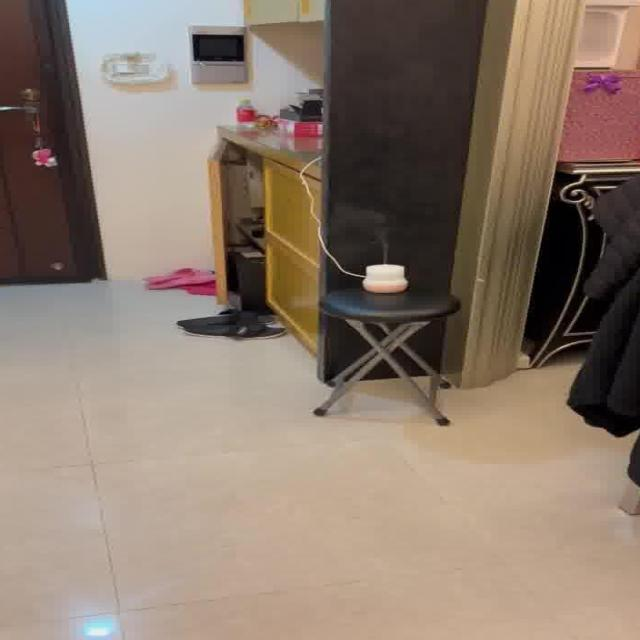fire: (338, 205, 396, 258)
